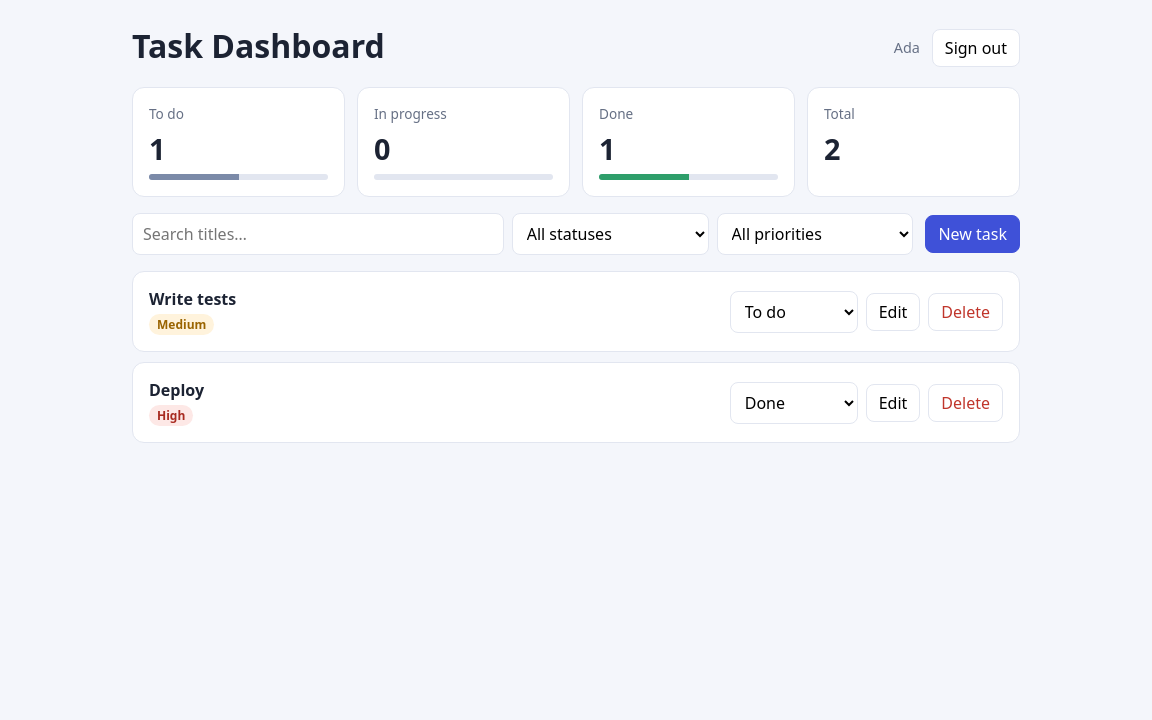
Test: Dashboard › creates a task through the form and refreshes
expect the text "Write tests" is shown: met, box [149, 288, 236, 310]
Click the button "New task" at coordinates (973, 234), box [925, 215, 1020, 253]
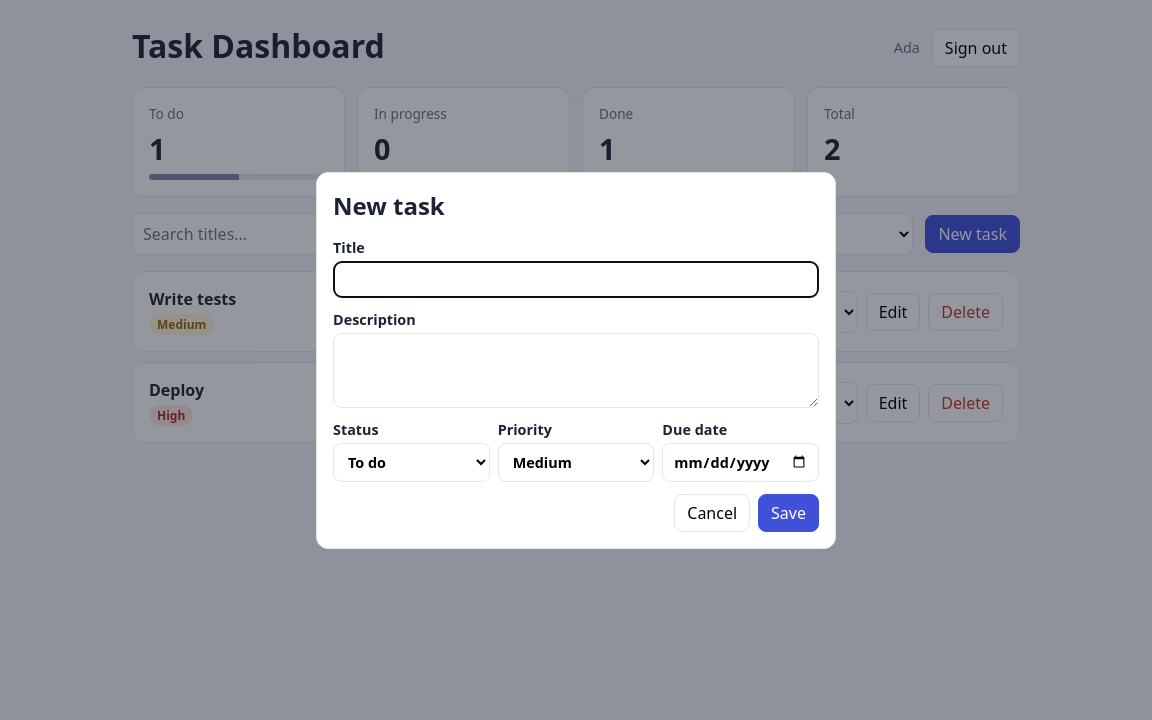
Type "New one" into the field labelled "Title" at coordinates (576, 279), box [333, 260, 819, 298]
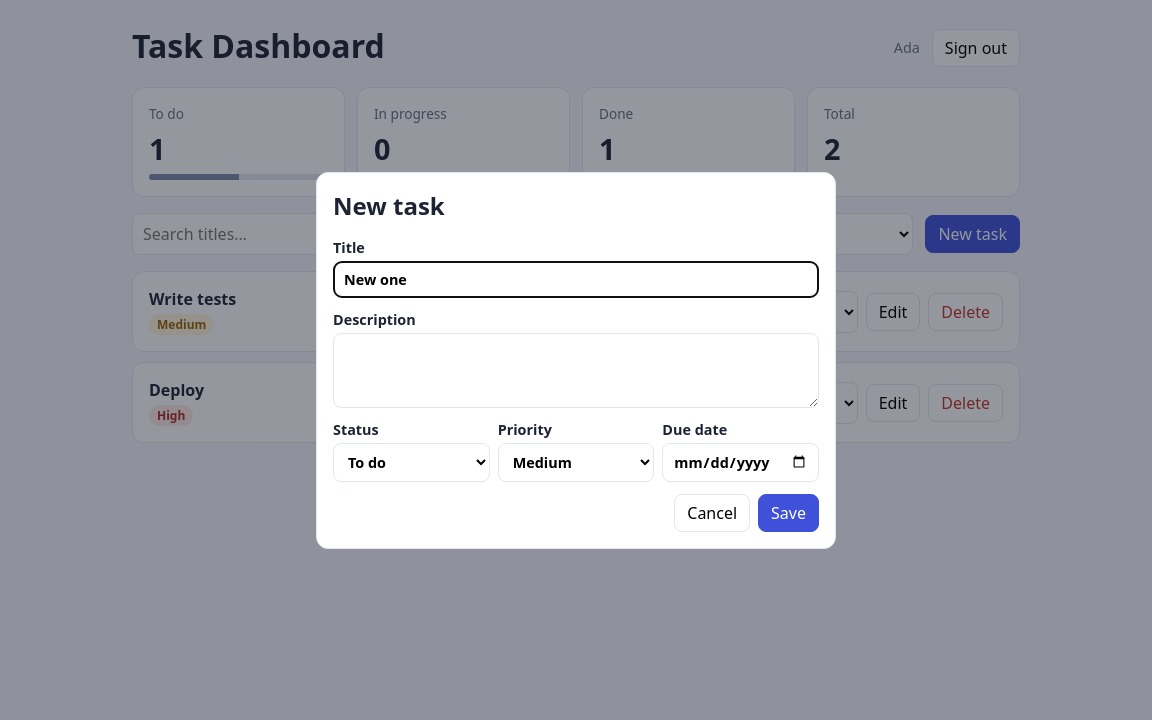
Click the button "Save" at coordinates (789, 512), box [758, 494, 819, 532]
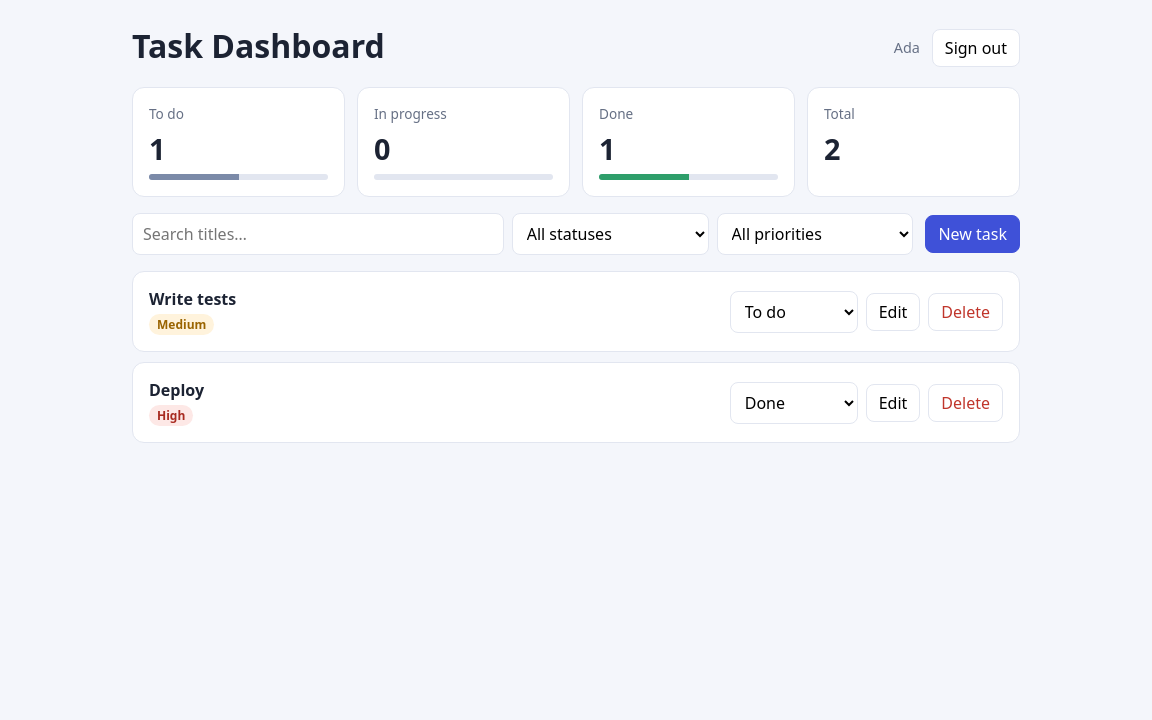
expect the dialog is gone: met
